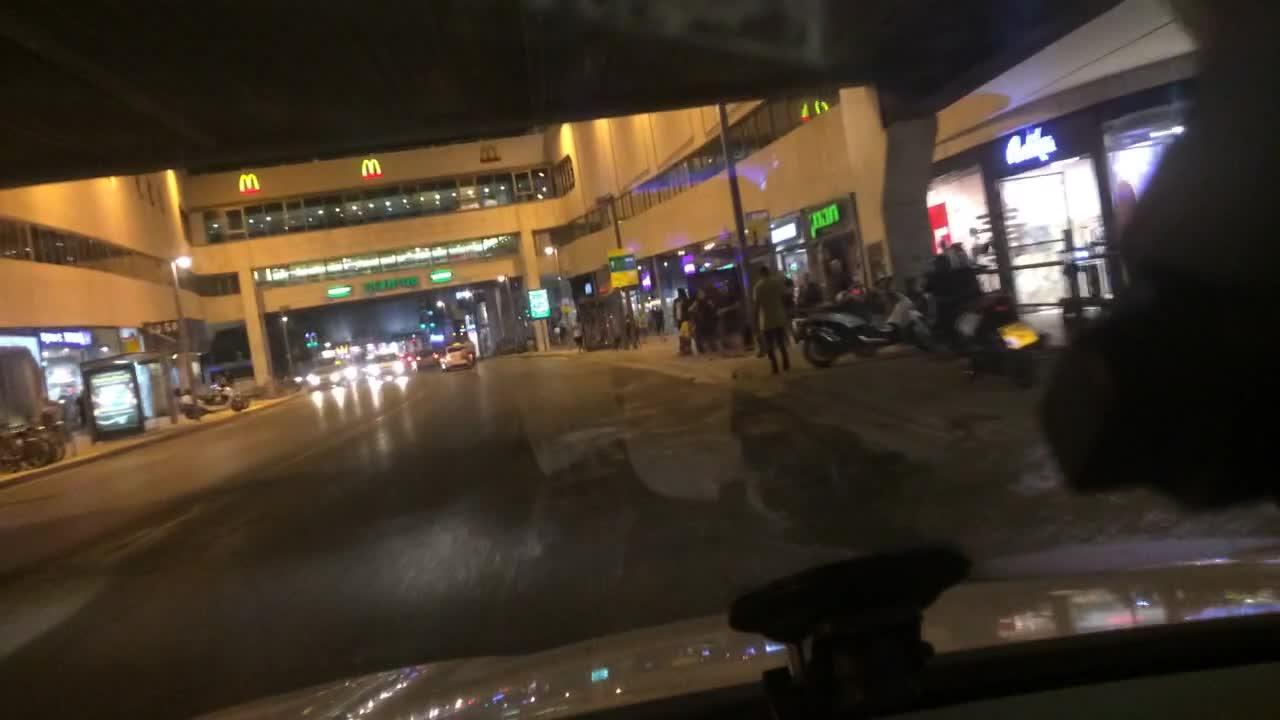bike: (0, 423, 51, 469), (22, 419, 65, 463)
car: (438, 340, 476, 369), (306, 362, 341, 389), (372, 350, 403, 375), (407, 348, 439, 370), (341, 363, 368, 384)
motor: (792, 274, 932, 368), (958, 291, 1049, 390), (171, 381, 245, 415)
person: (751, 263, 794, 375), (922, 253, 962, 342), (689, 288, 719, 355), (669, 286, 691, 354), (797, 271, 815, 307), (622, 311, 639, 349), (571, 314, 585, 351), (650, 302, 666, 332), (638, 305, 650, 335)
traffic sign: (605, 245, 640, 287), (526, 286, 551, 320)
